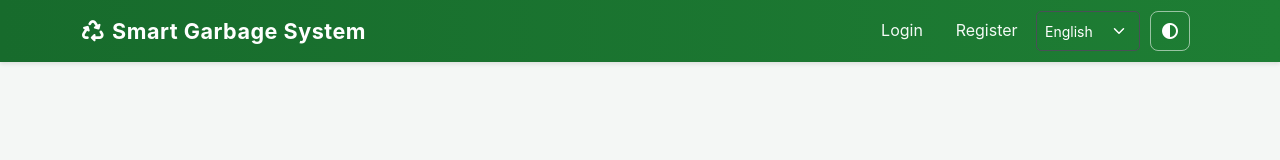
Test: LanguageSwitcher in the Header › switches the header text to Hindi and back
Later steps or results of the test are not shown.
Expected: the link "Login" is shown, [881, 20, 923, 40]
Select "हिन्दी" in the dropdown: x=1088, y=31 [1036, 11, 1140, 51]
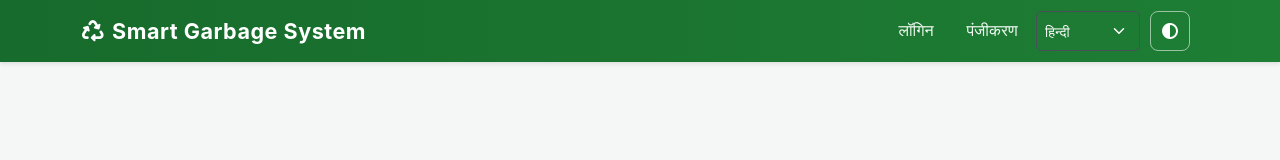
Expected: the link "Login" is gone
Expected: the link "लॉगिन" is shown, [898, 20, 934, 40]
Expected: the link "पंजीकरण" is shown, [966, 20, 1018, 40]
